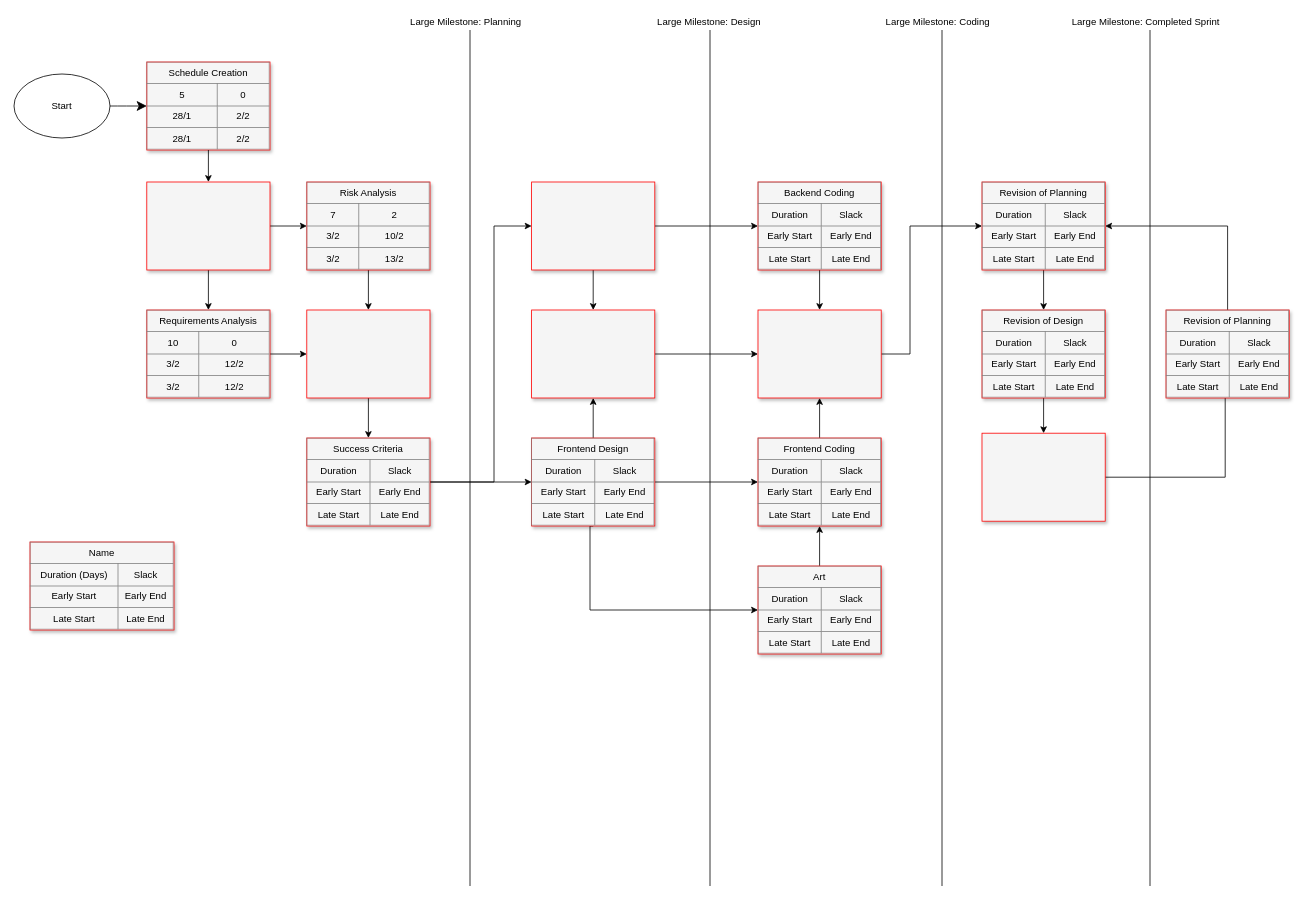
The diagram is 1308 pixels wide and 901 high, and some of its shapes have lost their labels. Here are the shapes that lost their labels. From the top down, the centre of each, then its label:
At (x=209, y=227): "Schedule Approval 1 0 2/2 3/2 2/2 3/2".
At (x=594, y=227): "Backend Design Duration Slack Early Start Early End Late Start Late End".
At (x=369, y=355): "Approval 1 0 13/2 14/2 13/2 14/2".
At (x=594, y=355): "Documentation Duration Slack Early Start Early End Late Start Late End".
At (x=820, y=355): "Coding Documentation Duration Slack Early Start Early End Late Start Late End".
At (x=1044, y=478): "Revision of Coding Duration Slack Early Start Early End Late Start Late End".
